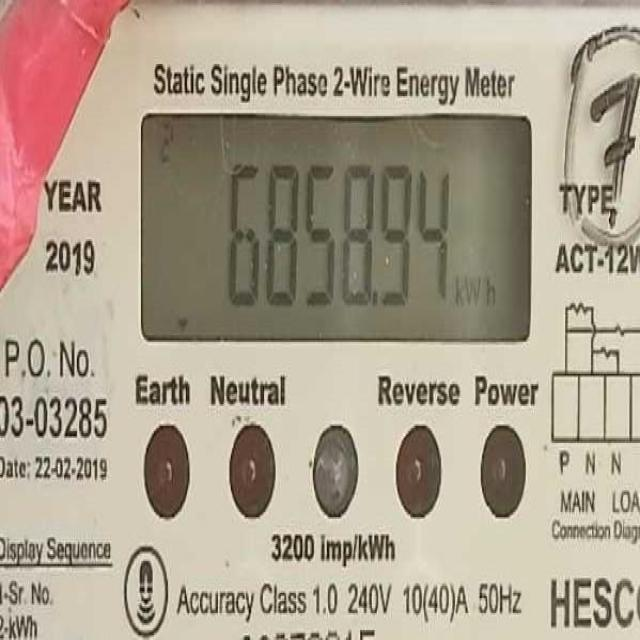4: (417, 158, 452, 315)
5: (301, 150, 339, 314)
6: (227, 142, 264, 318)
8: (265, 147, 301, 319), (339, 154, 375, 314)
9: (380, 155, 417, 321)
Digital meter: (142, 116, 530, 341)
point: (372, 284, 382, 312)
